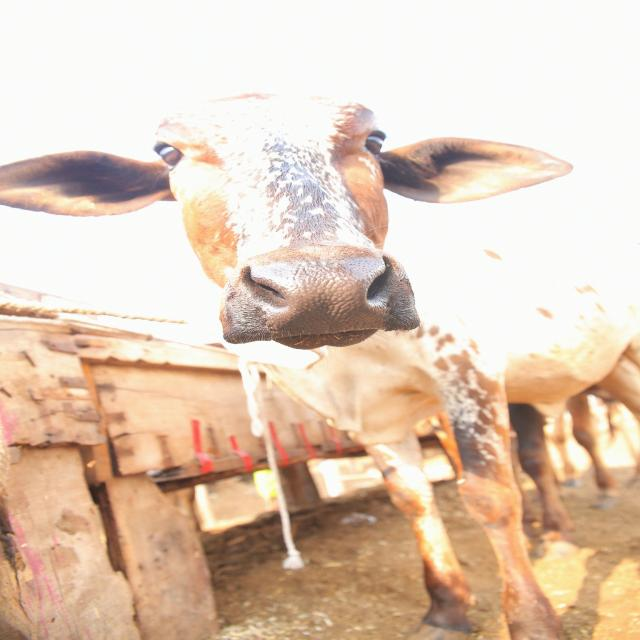muzzles: (224, 250, 407, 331)
